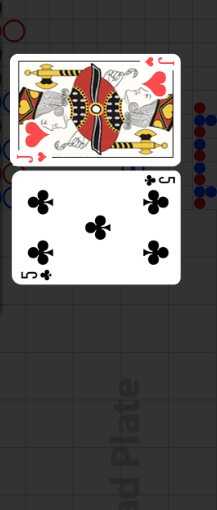5C: (142, 174, 176, 188)
5H: (16, 151, 48, 164)
